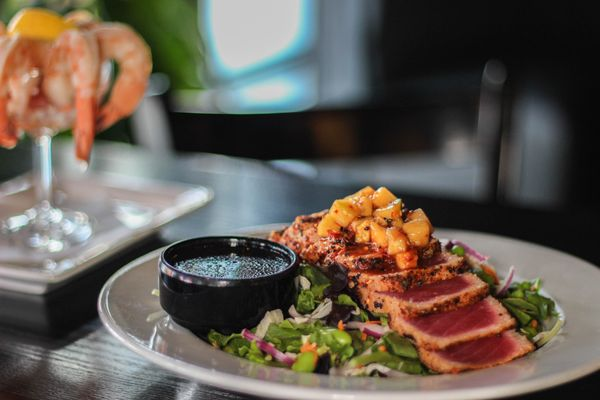sushi: (158, 234, 300, 335)
